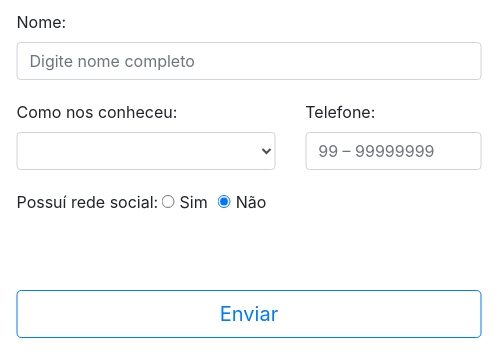
Test case: The Field Name › passing test - field input radio › valida campos Sim
This screenshot has width=499, height=355.
Click the radio button with id "sim" at (169, 202), box [162,195,175,208]
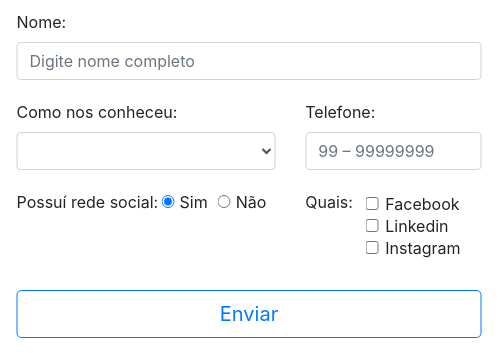
expect the text "Quais:" is shown: met, box [305,190,353,214]
